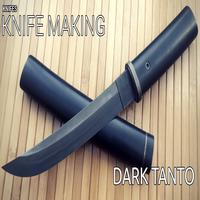knife: (2, 7, 194, 183)
